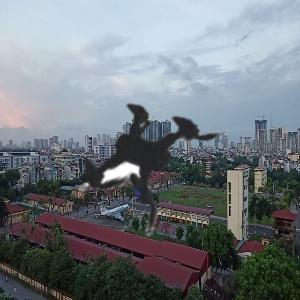drone: (3, 10, 277, 284)
